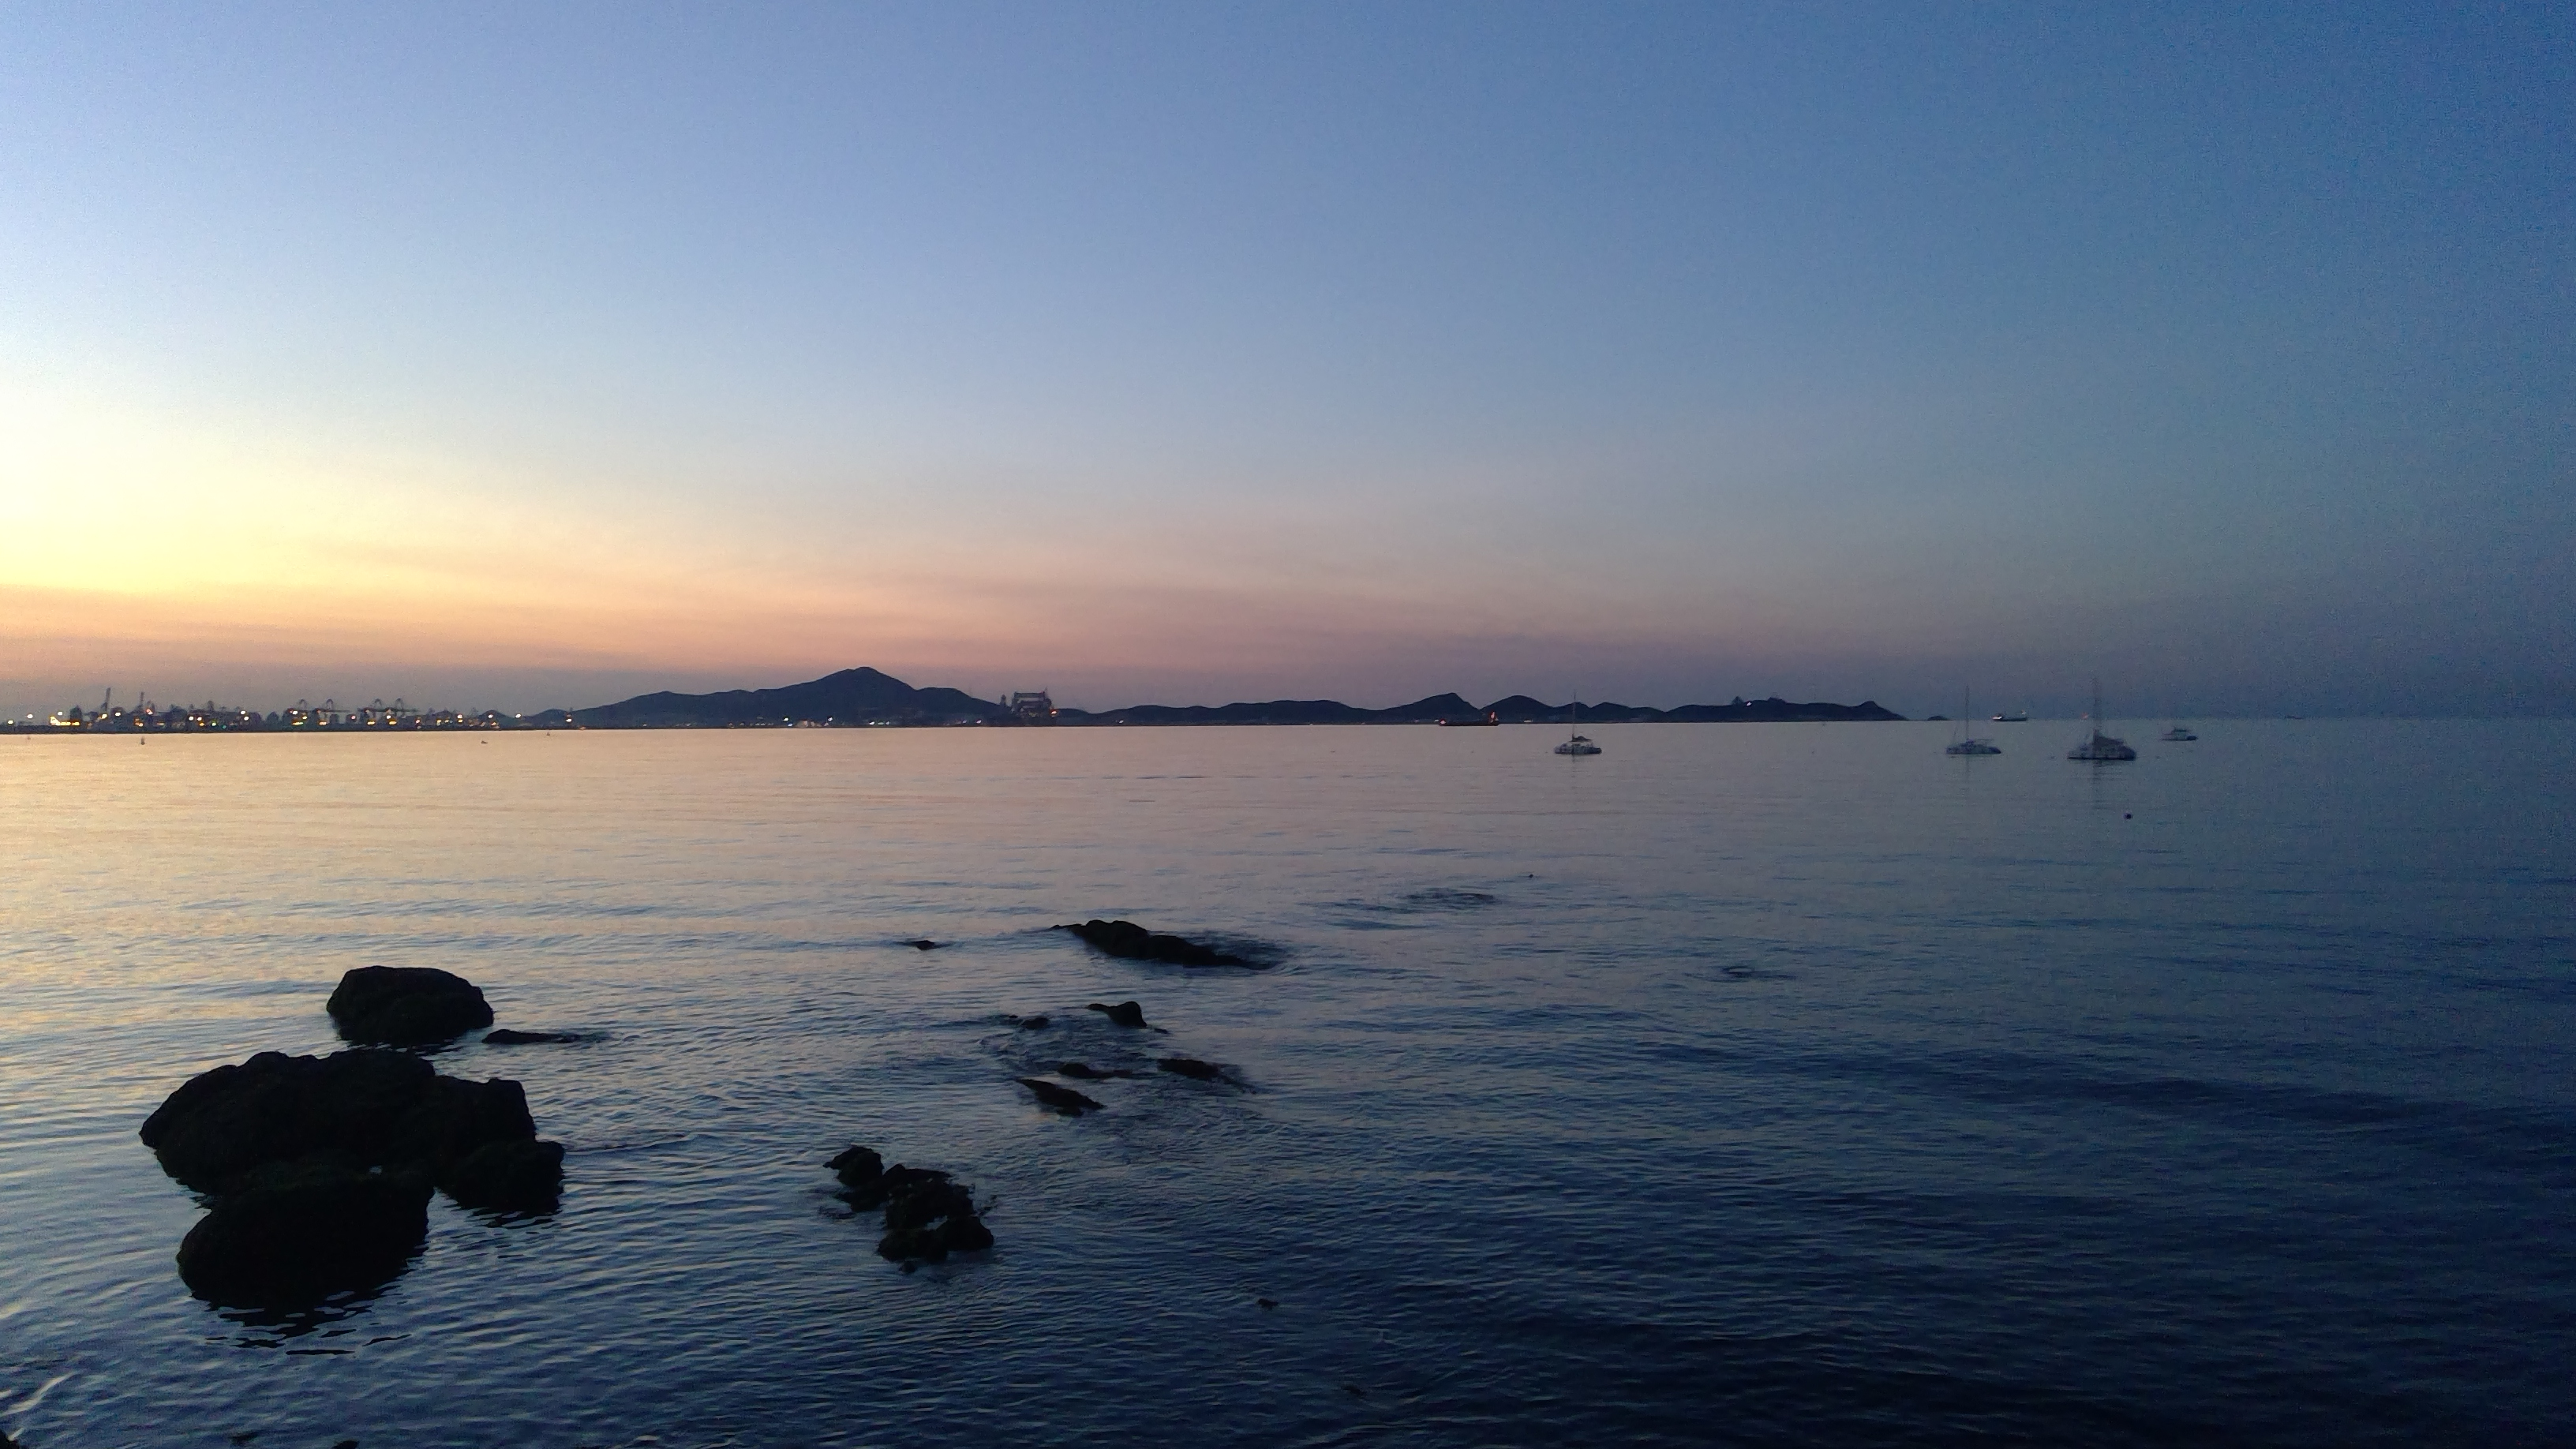boat: (2059, 667, 2139, 782), (1937, 679, 2005, 759), (1545, 683, 1606, 763)
rock: (134, 931, 607, 1323), (798, 1116, 1019, 1299), (1049, 885, 1279, 991), (1136, 1037, 1258, 1116), (1024, 1056, 1115, 1131), (1086, 977, 1173, 1044)
